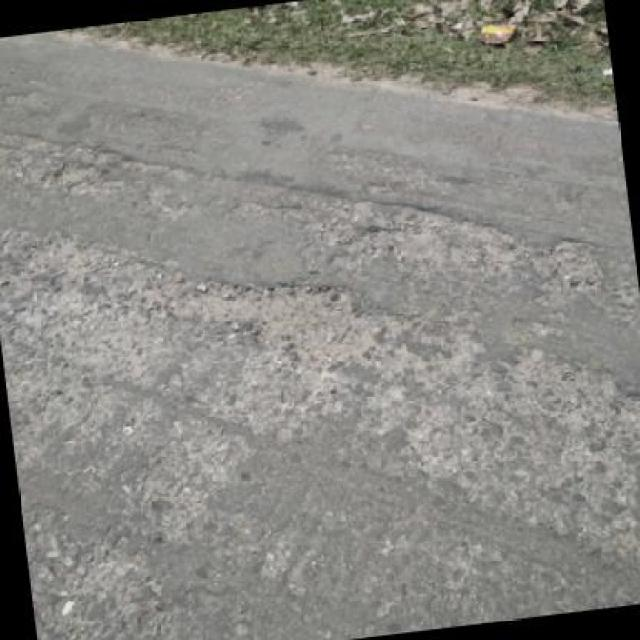pothole: (158, 256, 382, 376), (338, 179, 525, 284), (541, 232, 605, 297)
